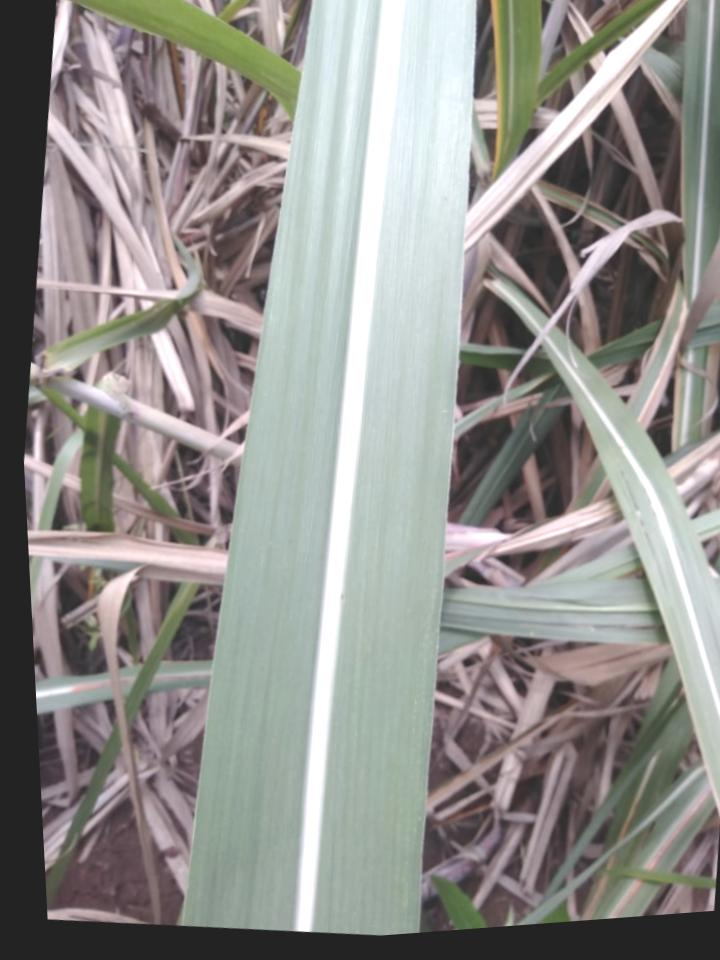Healthy: (183, 0, 473, 935)
